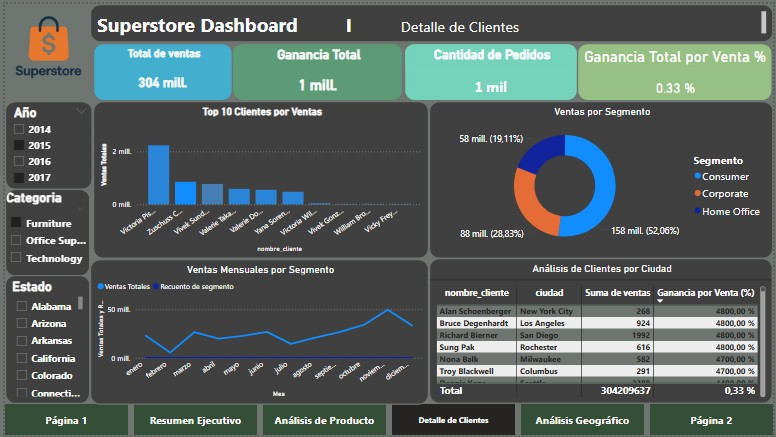

The page's visual inventory and layout, read from the dashboard file:
{"tool":"powerbi","page":{"name":"Detalle de Clientes","canvas":[1280,720],"ordinal":3},"visuals":[{"type":"image","box":[0,0,146.3,147.8],"z":0},{"type":"pageNavigator","box":[0,667.3,1280.5,52.7],"z":1000},{"type":"cardVisual","title":"Total de ventas","fields":{"Data":["superstore_procesado.Ventas Totales"]},"box":[146.3,64.4,232.7,96.6],"z":2000},{"type":"cardVisual","title":"Ganancia Total","fields":{"Data":["superstore_procesado.Ganancia Total"]},"box":[379,64.4,285.4,96.6],"z":3000},{"type":"cardVisual","title":"Cantidad de Pedidos","fields":{"Data":["superstore_procesado.Cantidad de Pedidos"]},"box":[664.4,64.4,289.8,96.6],"z":4000},{"type":"cardVisual","title":"Ganancia Total por Venta %","fields":{"Data":["superstore_procesado.Ganancia por Venta (%)"]},"box":[954.1,64.4,326.3,96.6],"z":5000},{"type":"textbox","box":[142,0,1138.5,64.4],"z":6000},{"type":"pageNavigator","box":[0,667.3,1280.5,52.7],"z":7000},{"type":"slicer","fields":{"Values":["superstore_procesado.año"]},"box":[0,161,146.3,147.8],"z":8000},{"type":"slicer","title":"Categoria","fields":{"Values":["superstore_procesado.categoria"]},"box":[0,308.8,142,146.3],"z":9000},{"type":"slicer","title":"Estado","fields":{"Values":["superstore_procesado.estado"]},"box":[0,452.2,142,215.1],"z":10000},{"type":"columnChart","title":"Top 10 Clientes por Ventas","fields":{"Category":["superstore_procesado.nombre_cliente"],"Y":["superstore_procesado.Ventas Totales"]},"box":[146.3,161,560.5,263.4],"z":11000},{"type":"donutChart","title":"Ventas por Segmento","fields":{"Y":["superstore_procesado.ventas"],"Category":["superstore_procesado.segmento"],"Series":["superstore_procesado.segmento"]},"box":[706.8,161,573.7,263.4],"z":12000},{"type":"lineChart","title":"Ventas Mensuales por Segmento","fields":{"Category":["superstore_procesado.fecha_pedido.Variación.Jerarquía de fechas.Mes"],"Y":["superstore_procesado.Ventas Totales","superstore_procesado.segmento"]},"box":[142,424.4,564.9,242.9],"z":13000},{"type":"tableEx","title":"Análisis de Clientes por Ciudad","fields":{"Values":["superstore_procesado.nombre_cliente","superstore_procesado.ciudad","superstore_procesado.ventas","superstore_procesado.Ganancia por Venta (%)"]},"box":[707,424,573,243],"z":14000}]}

Visuals, with their boxes on the page's 1280x720 design canvas (x1, y1, x2, y2). These are canvas units, not pixel positions in the 776x437 screenshot, which may show the page scaled, cropped or inside an application window:
image: <region>0, 0, 146, 148</region>
pageNavigator: <region>0, 667, 1280, 720</region>
"Total de ventas" cardVisual: <region>146, 64, 379, 161</region>
"Ganancia Total" cardVisual: <region>379, 64, 664, 161</region>
"Cantidad de Pedidos" cardVisual: <region>664, 64, 954, 161</region>
"Ganancia Total por Venta %" cardVisual: <region>954, 64, 1280, 161</region>
textbox: <region>142, 0, 1280, 64</region>
pageNavigator: <region>0, 667, 1280, 720</region>
slicer - superstore_procesado.año: <region>0, 161, 146, 309</region>
"Categoria" slicer: <region>0, 309, 142, 455</region>
"Estado" slicer: <region>0, 452, 142, 667</region>
"Top 10 Clientes por Ventas" columnChart: <region>146, 161, 707, 424</region>
"Ventas por Segmento" donutChart: <region>707, 161, 1280, 424</region>
"Ventas Mensuales por Segmento" lineChart: <region>142, 424, 707, 667</region>
"Análisis de Clientes por Ciudad" tableEx: <region>707, 424, 1280, 667</region>
